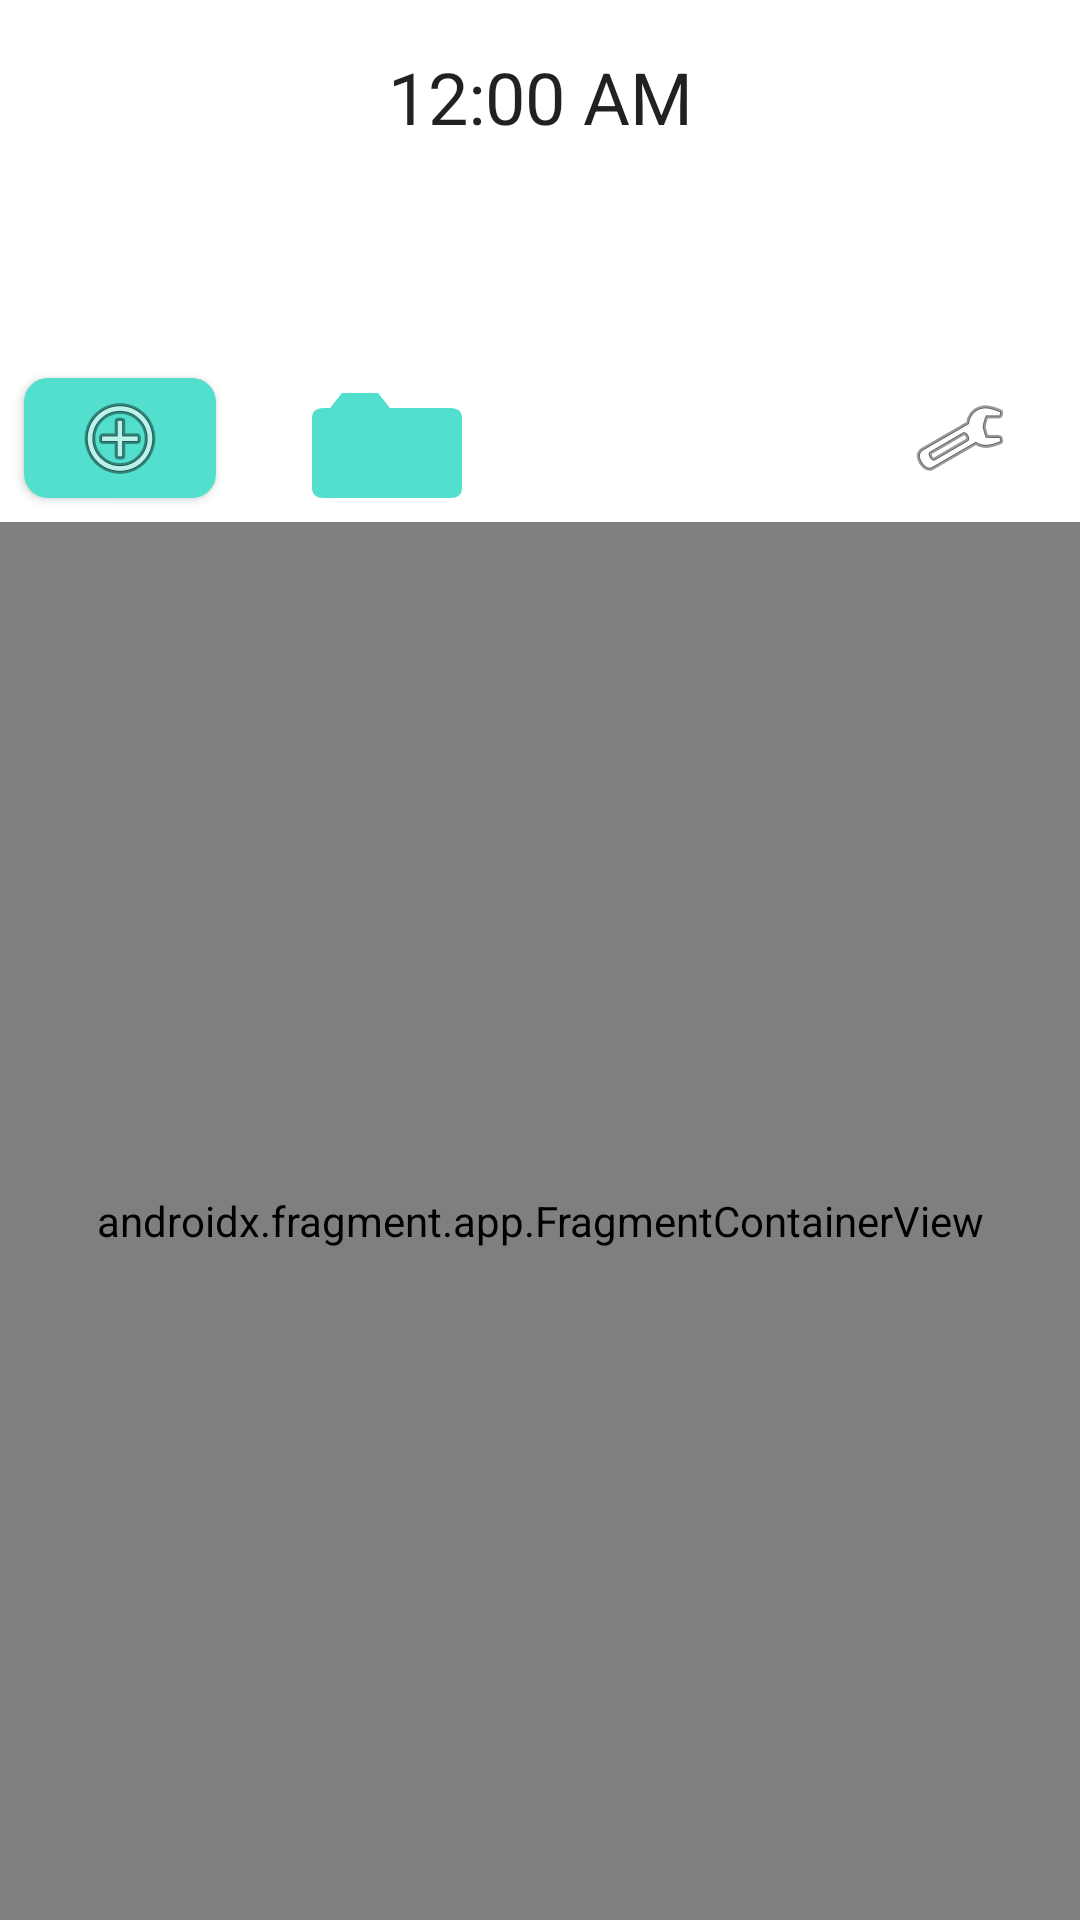

Icon click points for this 1080x1920 phone screenshot, format [x,y]:
Add alarm: [120,438]
Settings: [960,438]
